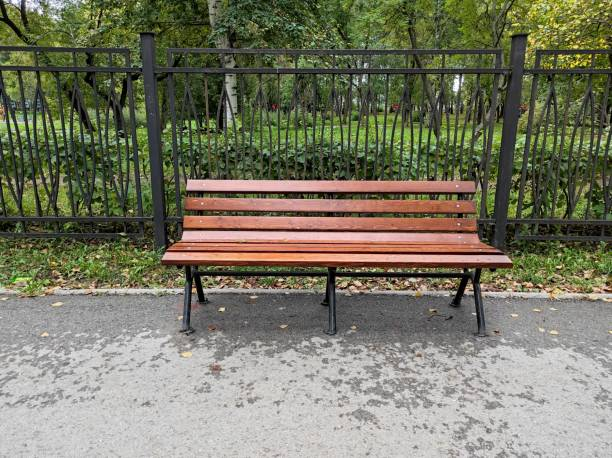bench: (154, 172, 517, 346)
